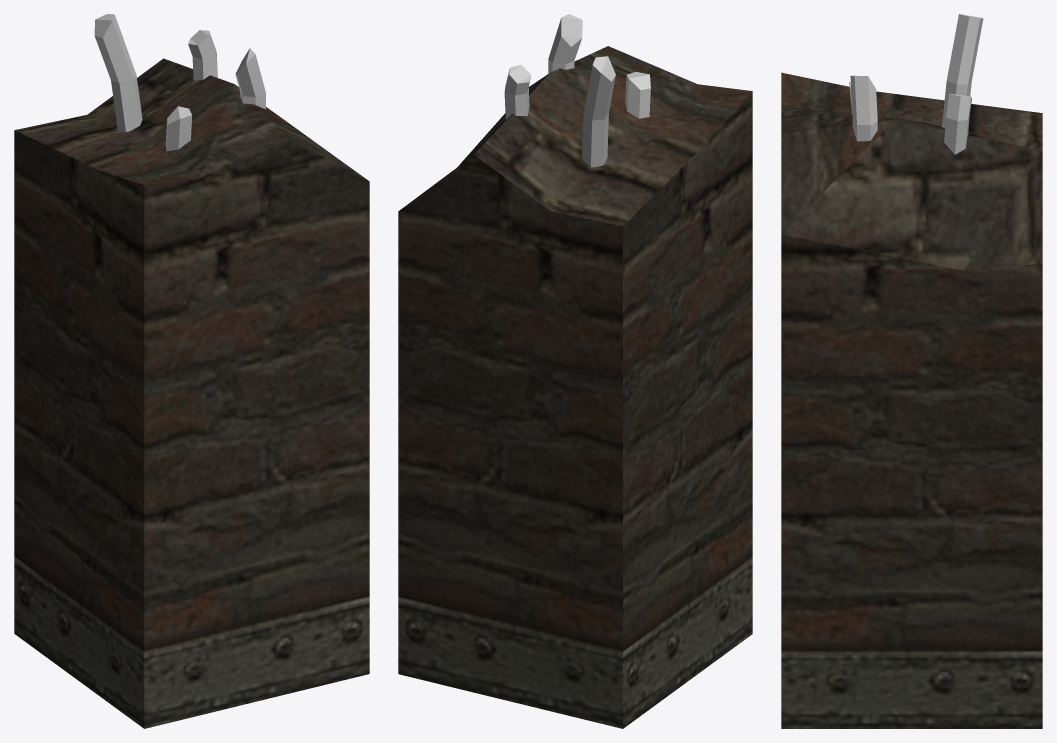
File: pillar_hr_1_broken.fbx
3 renders of one model, left to right at view 1: azimuth 30°, elevation 25°; view 2: azimuth 150°, elevation 25°; view 3: azimuth 270°, elevation 25°, orthographic.
Visible parts, largest first — view 1: pillar_hr_1_broken; view 2: pillar_hr_1_broken; view 3: pillar_hr_1_broken.
Boxes of the visible parts, x1,y1,x2,y2 form: pillar_hr_1_broken: (14,14,369,728); pillar_hr_1_broken: (398,14,752,728); pillar_hr_1_broken: (781,14,1042,728).
Bounding box in the file's own units: 0.6 × 0.6 × 1.6.
